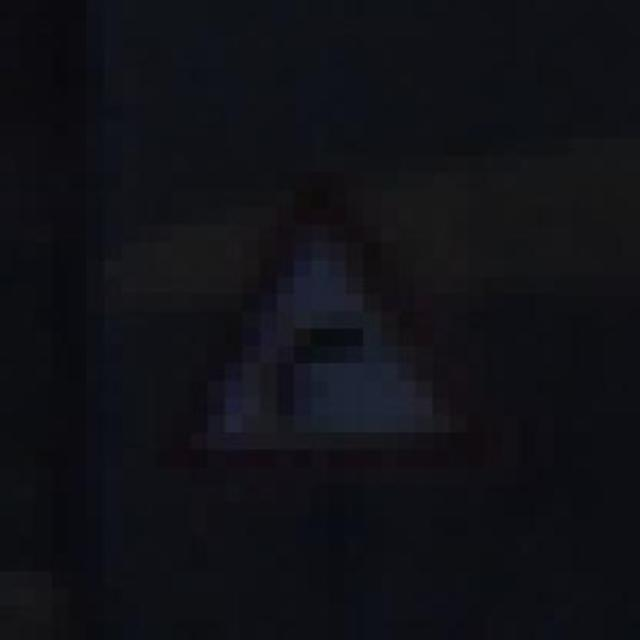Dangerous Rright Curve Ahead: (86, 156, 537, 502)
